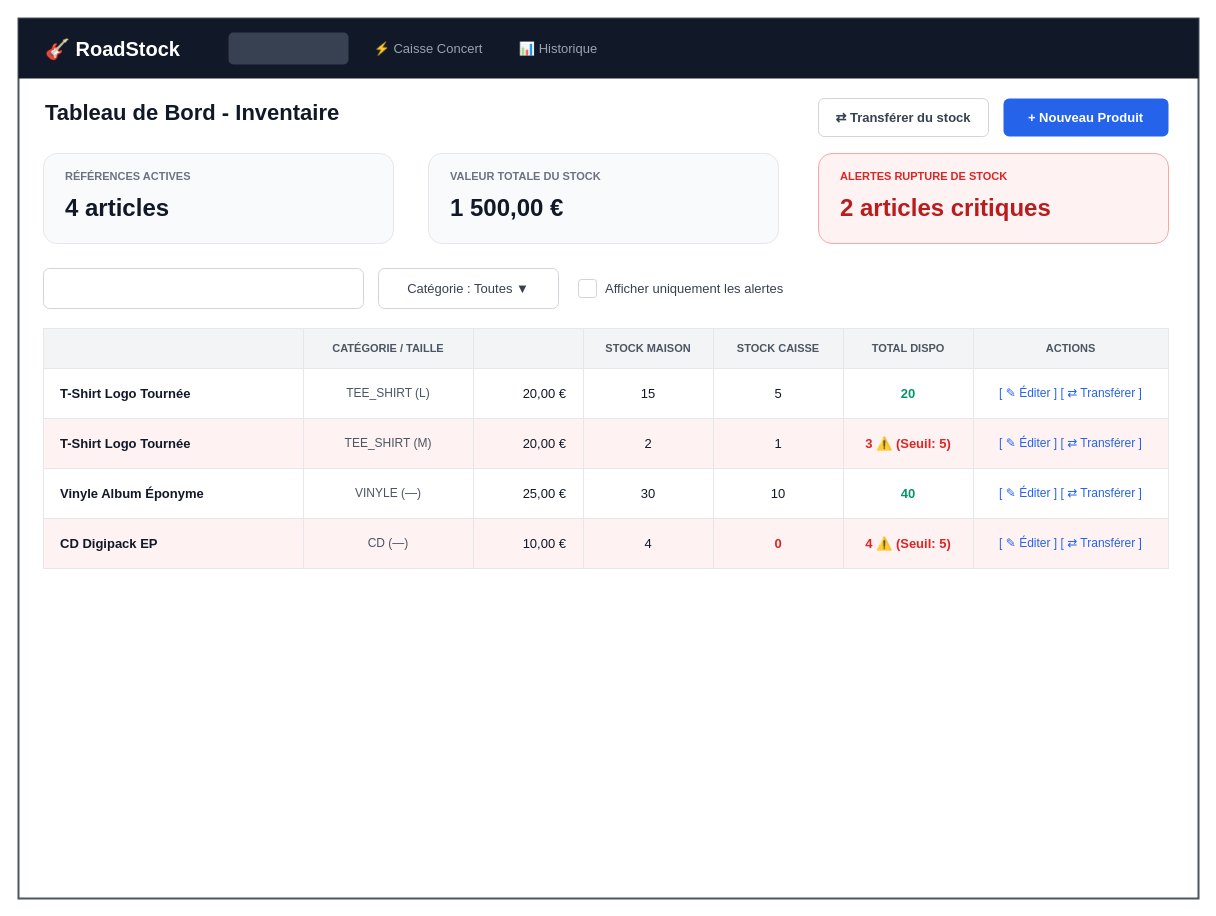
Some shapes in this 1216 by 916 pixel diagram are drawn without their labels. Here are the shapes that lost their labels. From the top down, the centre of each, then its label:
the point at 288,48: 📦 Inventaire
the point at 203,288: 🔍 Rechercher un produit...
the point at 173,348: PRODUIT
the point at 528,348: PRIX U.
